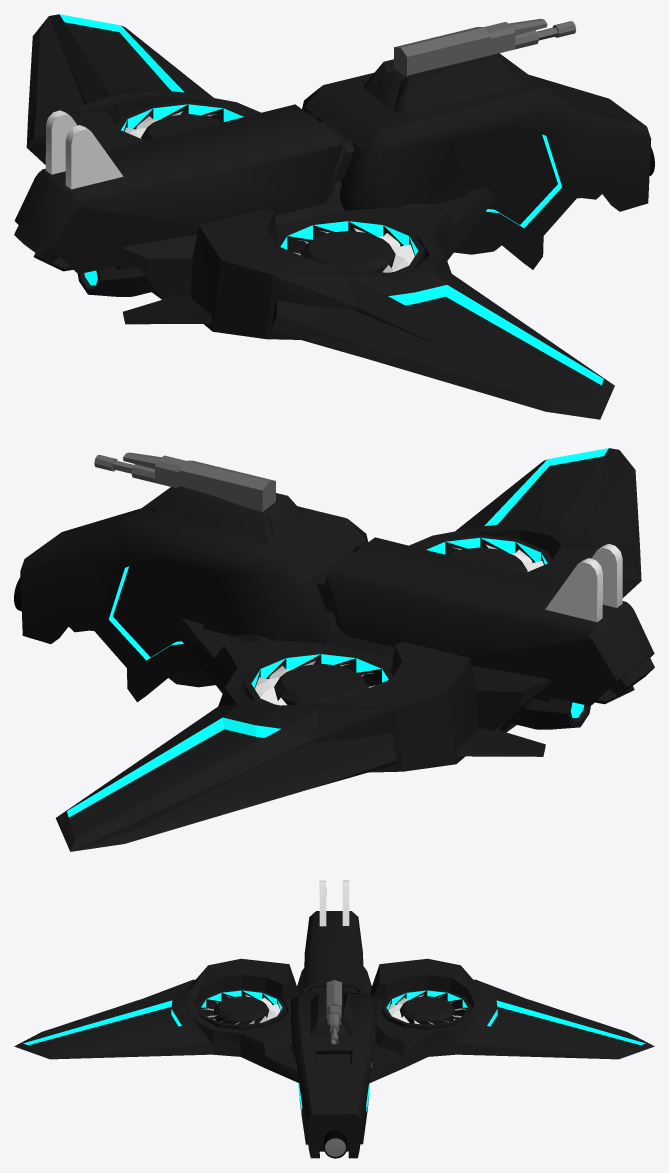
The model's file is Air Drone blend.fbx.
The picture shows the model from 3 angles, top to bottom: view 1: azimuth 30°, elevation 25°; view 2: azimuth 150°, elevation 25°; view 3: azimuth 270°, elevation 25°; orthographic projection. The views are drawn at different scales.
Visible parts, largest first — view 1: Mesh_0814.001, Drone, Drone.001, Mesh_0822.001, propller 1; view 2: Drone, Mesh_0814.001, Drone.001, Mesh_0822.001, Propllier 2; view 3: Drone, Mesh_0814.001, Drone.001, Mesh_0822.001, Circle.001.
Part boxes in pixels (x1=…): Mesh_0814.001: x1=14, y1=53, x2=651, y2=299; Drone: x1=26, y1=14, x2=614, y2=419; Drone.001: x1=394, y1=18, x2=576, y2=76; Mesh_0822.001: x1=45, y1=110, x2=123, y2=189; propller 1: x1=293, y1=228, x2=414, y2=272; Drone: x1=55, y1=448, x2=641, y2=851; Mesh_0814.001: x1=20, y1=486, x2=654, y2=732; Drone.001: x1=94, y1=452, x2=275, y2=511; Mesh_0822.001: x1=545, y1=544, x2=622, y2=622; Propllier 2: x1=255, y1=661, x2=375, y2=705; Drone: x1=14, y1=958, x2=654, y2=1083; Mesh_0814.001: x1=291, y1=911, x2=376, y2=1158; Drone.001: x1=326, y1=980, x2=341, y2=1044; Mesh_0822.001: x1=319, y1=880, x2=349, y2=926; Circle.001: x1=324, y1=1130, x2=346, y2=1158.
Size of what is drawn, in the model's own units: 407 by 150 by 626.
